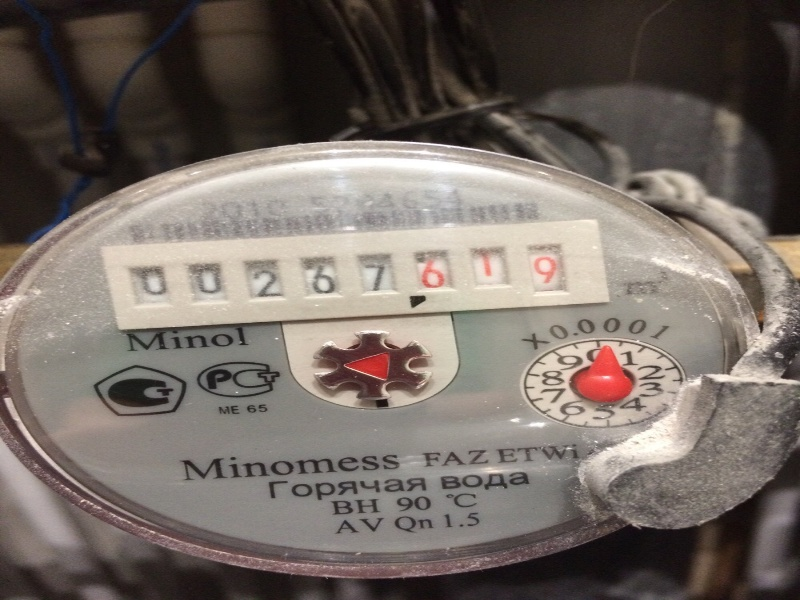meter: (99, 249, 580, 310)
